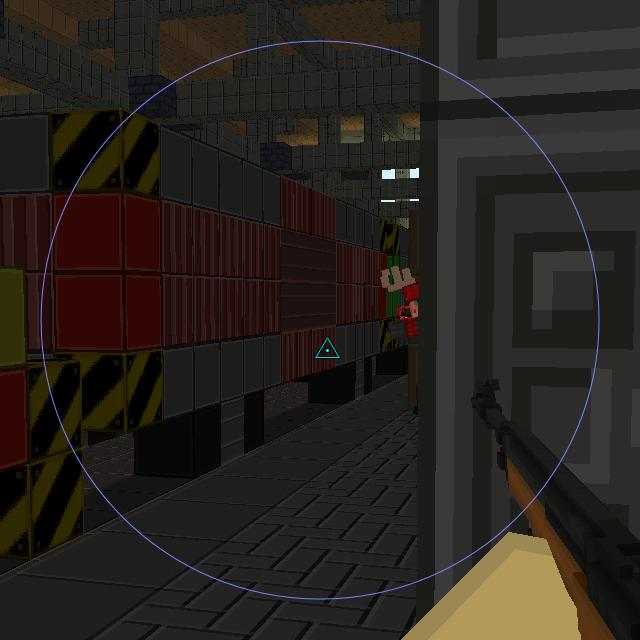enemy: (380, 266, 421, 343)
